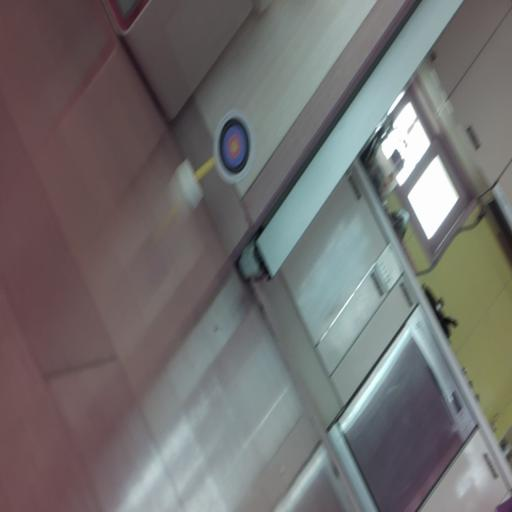target: (214, 112, 254, 183)
